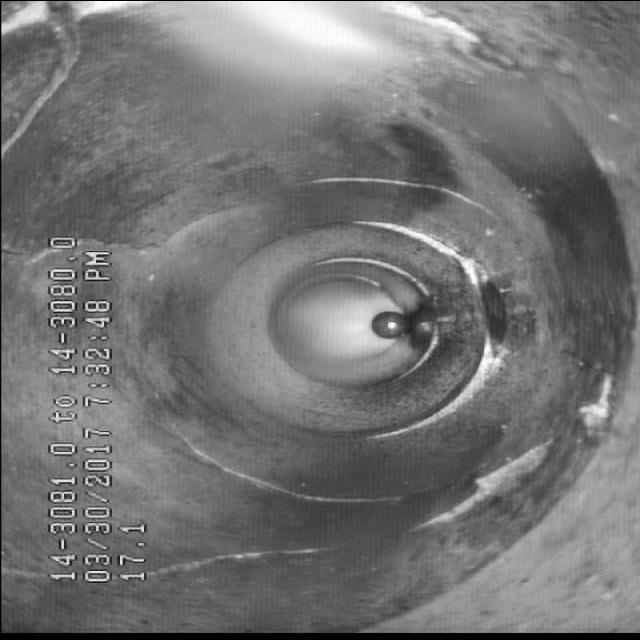Crack: (178, 516, 386, 582), (6, 20, 104, 137)
